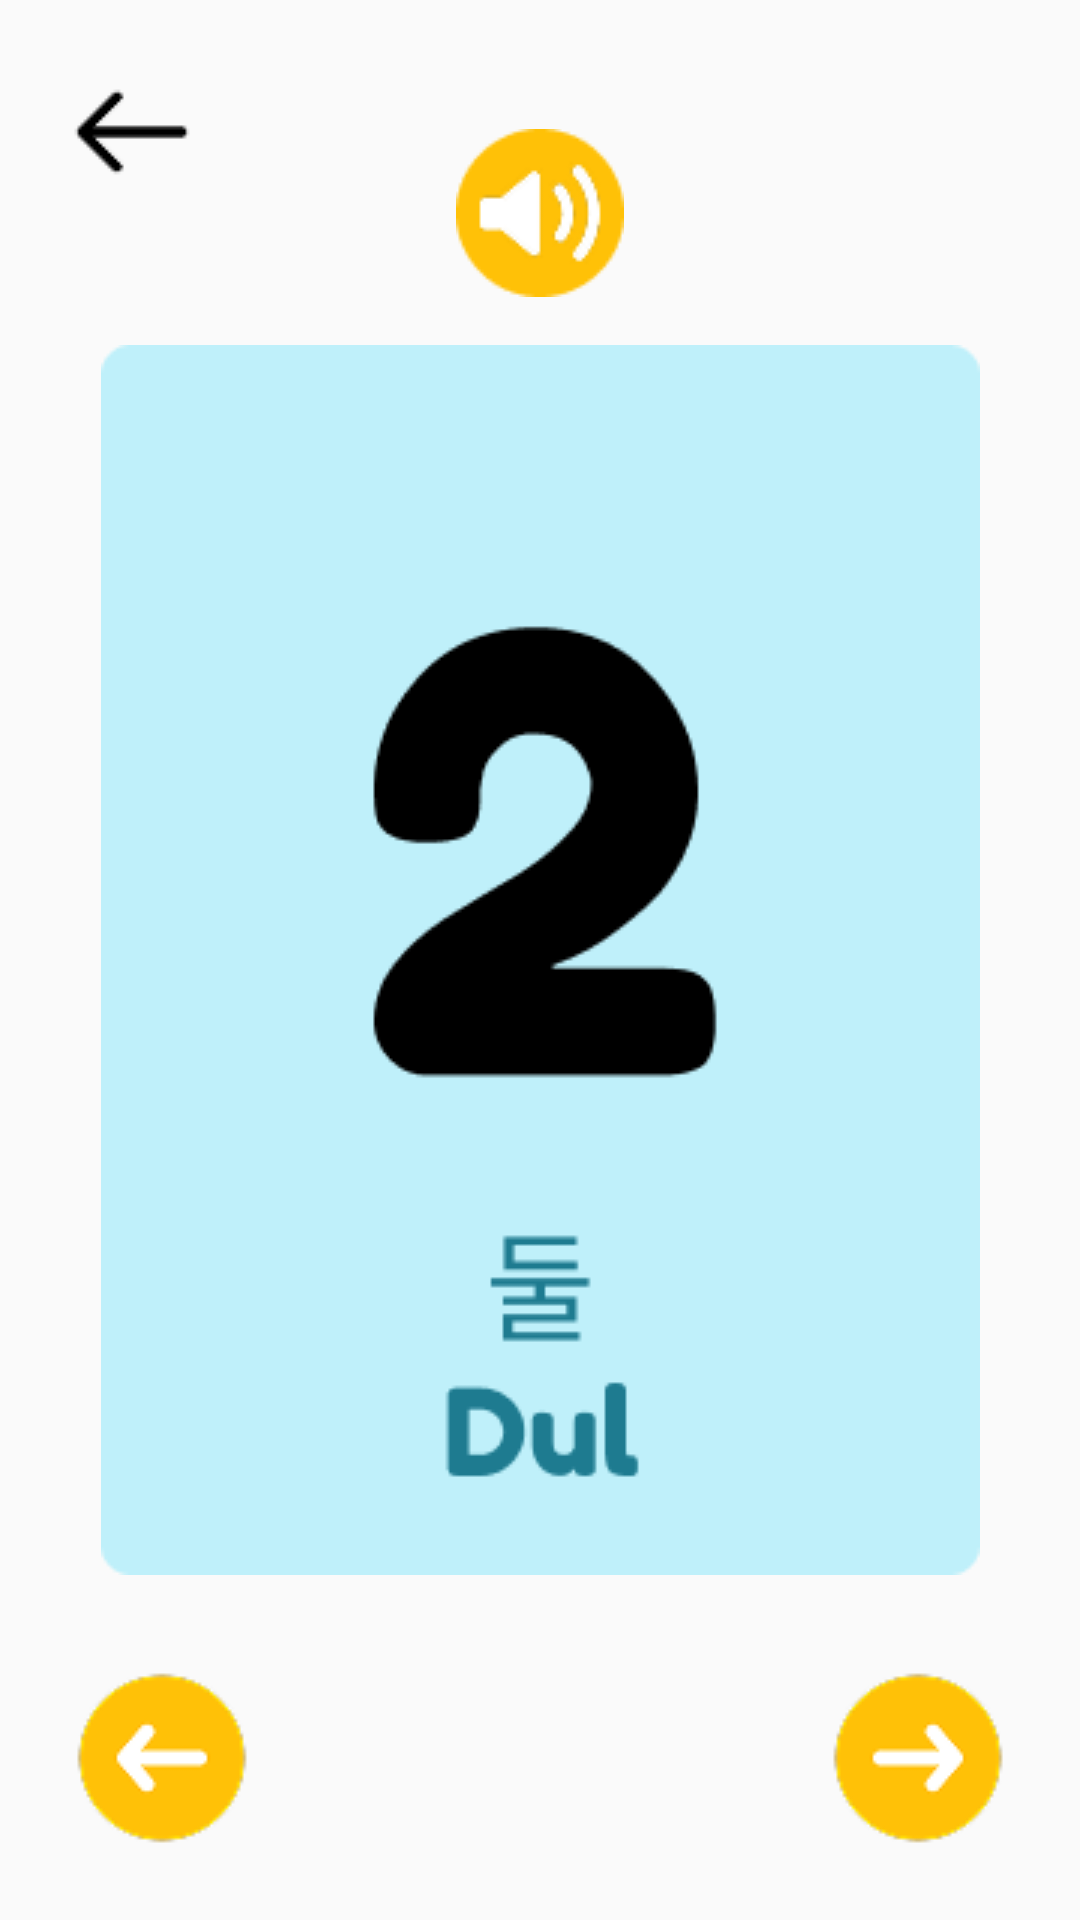

Icons on this 1080px x 1920px Android screen, each with its box as (x1, y1, x2, y2):
back home: (75, 90, 189, 173)
next: (833, 1673, 1003, 1843)
previous: (77, 1673, 247, 1843)
sound: (456, 129, 624, 297)
